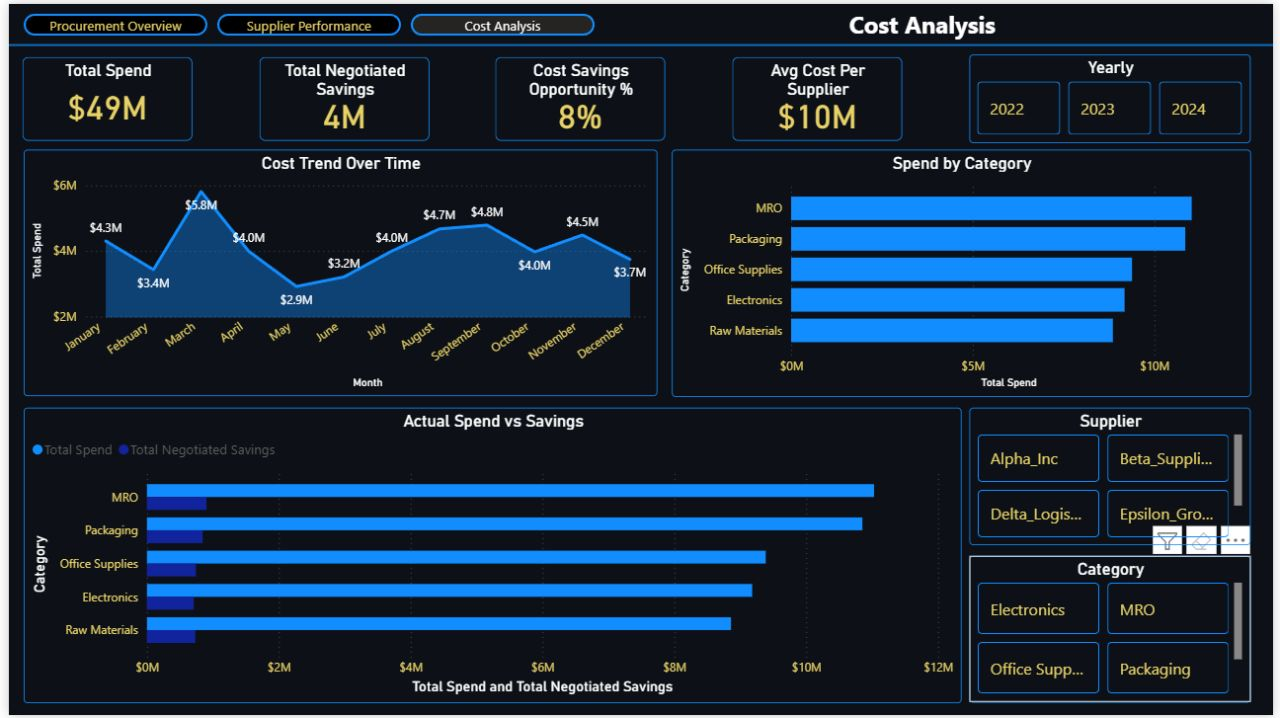

This screenshot's page, from the dashboard's own definition file:
{"tool":"powerbi","page":{"name":"Cost Analysis","canvas":[1280,720],"ordinal":2},"visuals":[{"type":"textbox","box":[570.4,0,709.6,42],"z":0},{"type":"shape","box":[0,34.8,1280,13.2],"z":1000},{"type":"advanceCardE03760C5AB684758B56AA29F9E6C257B","title":"Total Spend","fields":{"mainMeasure":["_Measures.Total Spend"]},"box":[14,53.5,172.1,84.9],"z":2000},{"type":"advanceCardE03760C5AB684758B56AA29F9E6C257B","title":"Total Negotiated Savings","fields":{"mainMeasure":["_Measures.Total Negotiated Savings"]},"box":[253.5,53.5,172.1,84.9],"z":3000},{"type":"advanceCardE03760C5AB684758B56AA29F9E6C257B","title":"Cost Savings Opportunity %","fields":{"mainMeasure":["_Measures.Cost Savings Opportunity %"]},"box":[493,53.5,172.1,84.9],"z":4000},{"type":"advanceCardE03760C5AB684758B56AA29F9E6C257B","title":"Avg Cost Per Supplier","fields":{"mainMeasure":["_Measures.Avg Cost Per Supplier"]},"box":[732.6,53.5,172.1,84.9],"z":5000},{"type":"areaChart","title":"Cost Trend Over Time","fields":{"Category":["Date_Table.Date.Variation.Date Hierarchy.Month"],"Y":["_Measures.Total Spend"]},"box":[14.4,147.7,641.2,249.8],"z":6000},{"type":"clusteredBarChart","title":"Spend by Category","fields":{"Y":["_Measures.Total Spend"],"Category":["Products.Category"]},"box":[670.9,147.7,586,250],"z":7000},{"type":"clusteredBarChart","title":"Actual Spend vs Savings","fields":{"Y":["_Measures.Total Spend","_Measures.Total Negotiated Savings"],"Category":["Products.Category"]},"box":[14.4,408.3,949.8,299],"z":8000},{"type":"advancedSlicerVisual","title":" Yearly","fields":{"Values":["Date_Table.Date.Variation.Date Hierarchy.Year"]},"box":[972.1,51.2,284.9,89.5],"z":9000},{"type":"advancedSlicerVisual","title":"Category","fields":{"Values":["Products.Category"]},"box":[972.1,558.1,284.9,148.8],"z":10000},{"type":"advancedSlicerVisual","title":"Supplier","fields":{"Values":["Suppliers. Supplier_Name"]},"box":[972.1,408.1,284.9,139.5],"z":11000},{"type":"pageNavigator","box":[14.4,9.6,580,22.8],"z":12000}]}

Visuals, with their boxes in screenshot pixels (x1, y1, x2, y2), scaled from the page's 1280x720 canvas onto the 1280x718 screenshot:
textbox: region(570, 0, 1279, 42)
shape: region(0, 35, 1279, 48)
"Total Spend" advanceCardE03760C5AB684758B56AA29F9E6C257B: region(14, 53, 186, 138)
"Total Negotiated Savings" advanceCardE03760C5AB684758B56AA29F9E6C257B: region(254, 53, 426, 138)
"Cost Savings Opportunity %" advanceCardE03760C5AB684758B56AA29F9E6C257B: region(493, 53, 665, 138)
"Avg Cost Per Supplier" advanceCardE03760C5AB684758B56AA29F9E6C257B: region(733, 53, 905, 138)
"Cost Trend Over Time" areaChart: region(14, 147, 656, 396)
"Spend by Category" clusteredBarChart: region(671, 147, 1257, 397)
"Actual Spend vs Savings" clusteredBarChart: region(14, 407, 964, 705)
" Yearly" advancedSlicerVisual: region(972, 51, 1257, 140)
"Category" advancedSlicerVisual: region(972, 557, 1257, 705)
"Supplier" advancedSlicerVisual: region(972, 407, 1257, 546)
pageNavigator: region(14, 10, 594, 32)
